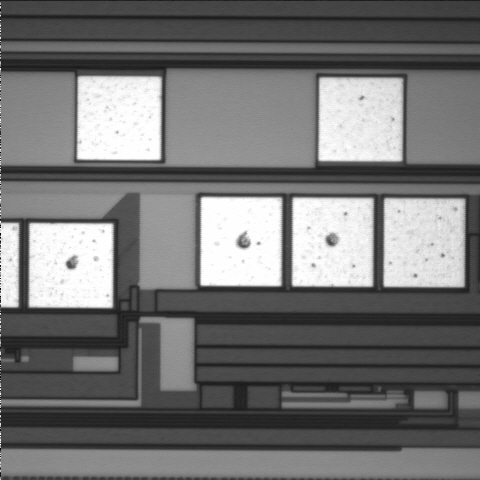pad: (200, 197, 282, 286), (292, 198, 373, 287), (384, 198, 465, 287), (29, 223, 113, 308), (77, 76, 161, 160), (319, 78, 403, 161)
